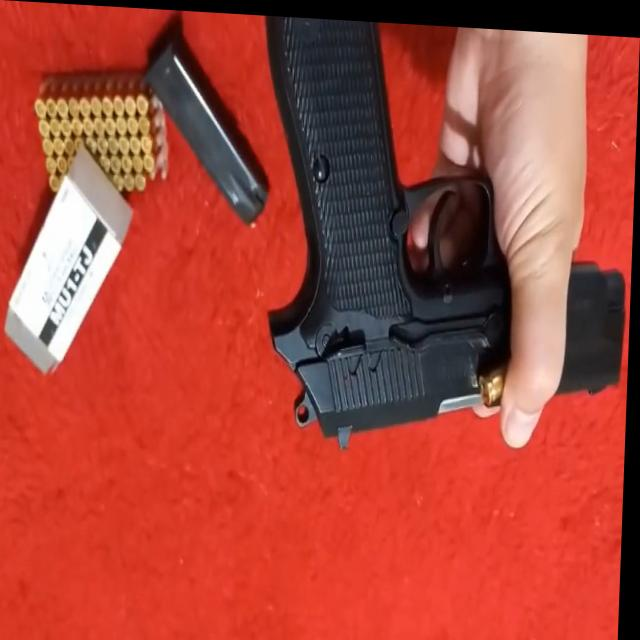handgun: (250, 13, 638, 454)
